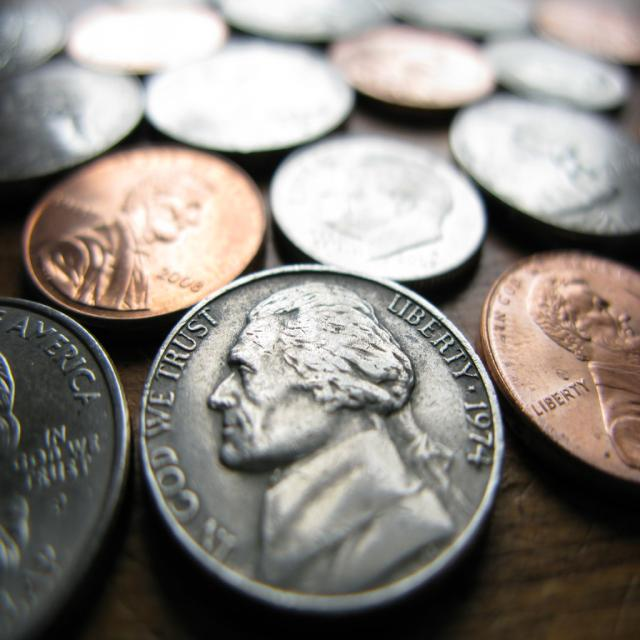Coin: (138, 259, 503, 618), (0, 293, 130, 639), (23, 145, 267, 325), (481, 253, 640, 496), (266, 131, 485, 286), (450, 92, 640, 236), (144, 33, 358, 154), (0, 56, 146, 185), (322, 19, 500, 109), (67, 0, 224, 77), (482, 28, 631, 103), (216, 0, 375, 50), (530, 0, 640, 64), (0, 0, 68, 81), (377, 0, 530, 33)
